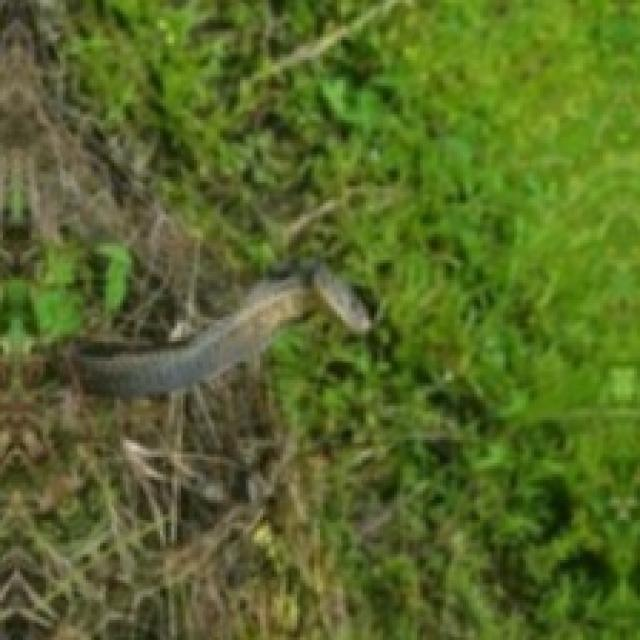king cobra: (72, 261, 371, 397)
